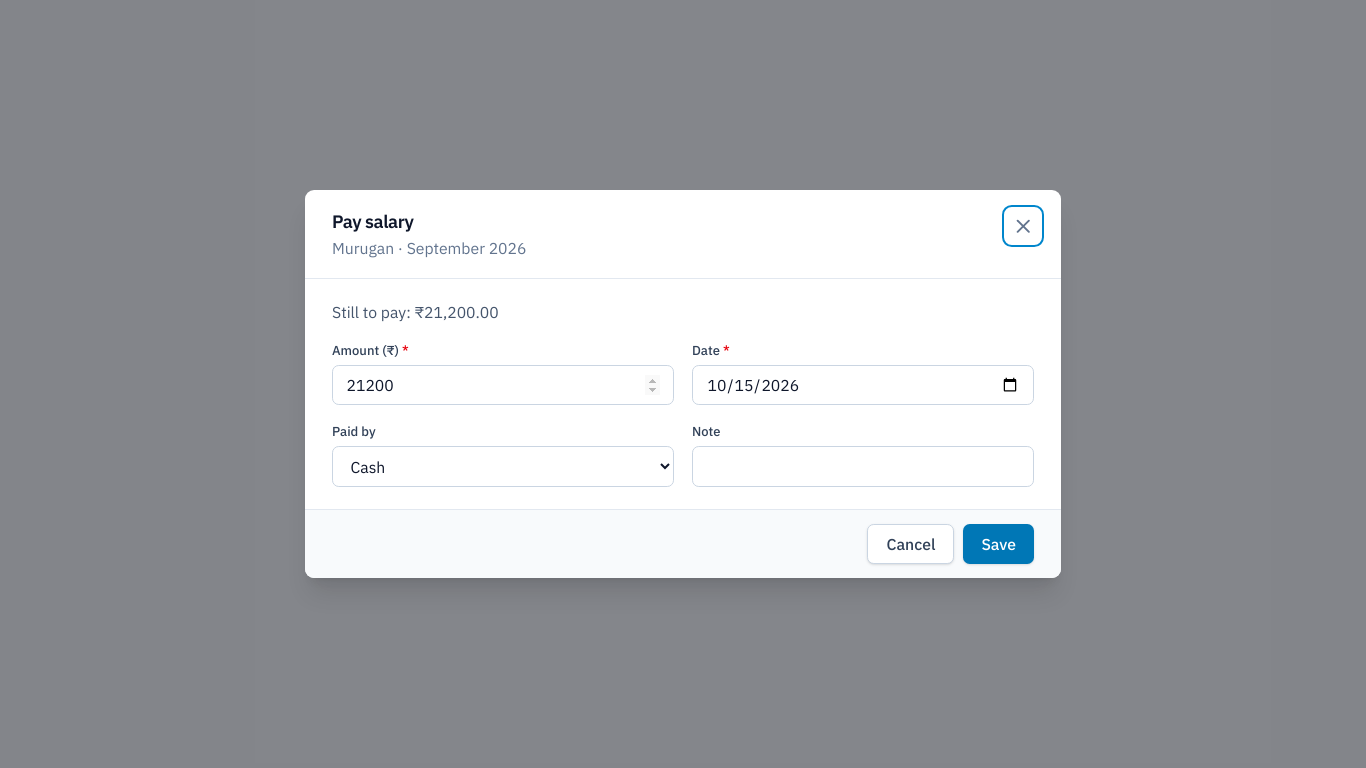
paying salary › refuses an amount of
Step 1. Clear the number field labelled "Amount" → (503, 385), box x1=332 y1=365 x2=674 y2=405
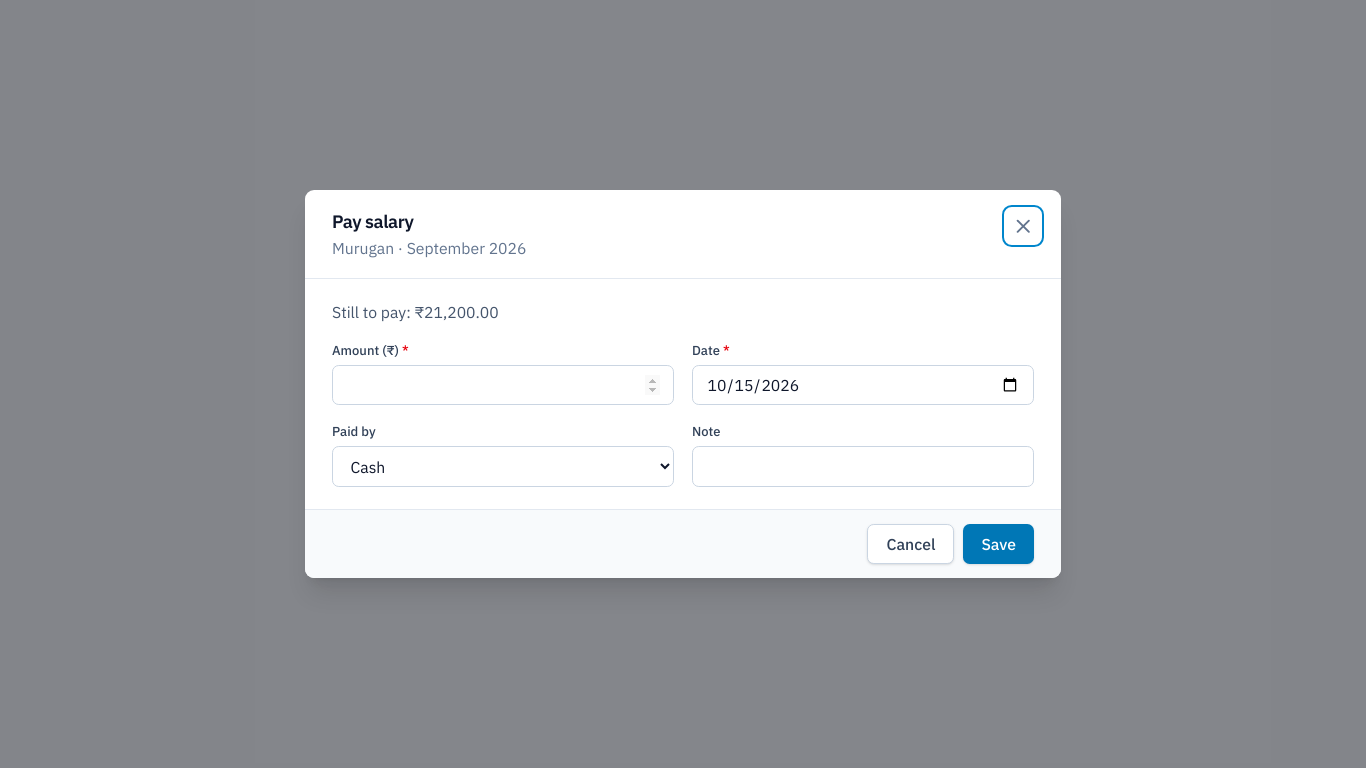
Step 2. Click the button "Save" → (999, 544), box x1=963 y1=524 x2=1034 y2=564
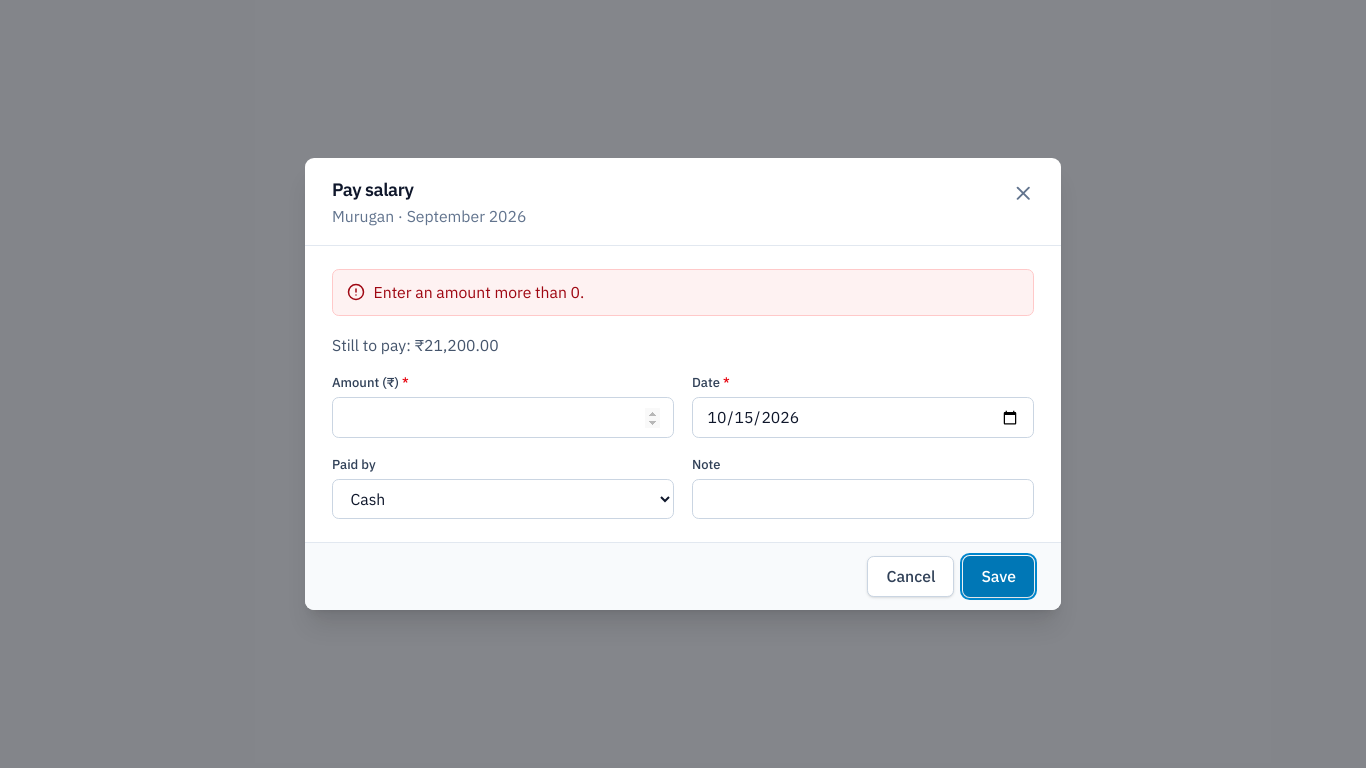
Result: the message reads "Enter an amount more than 0." at x1=374 y1=282 x2=584 y2=302
